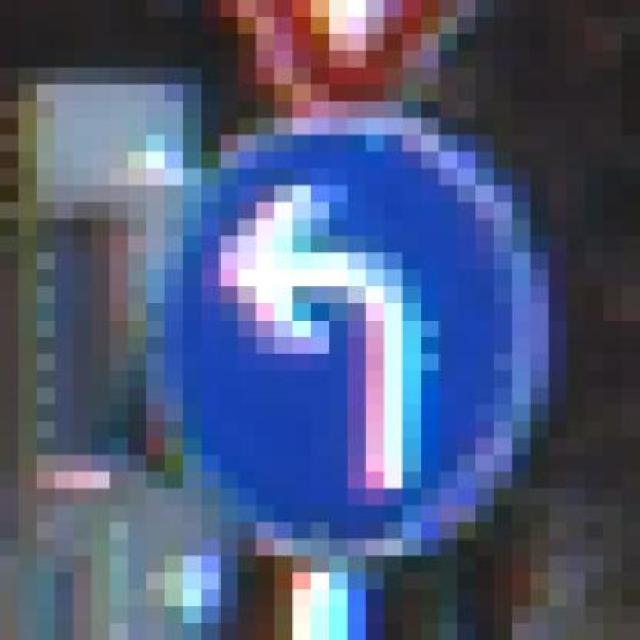Turn left ahead: (128, 101, 568, 590)
